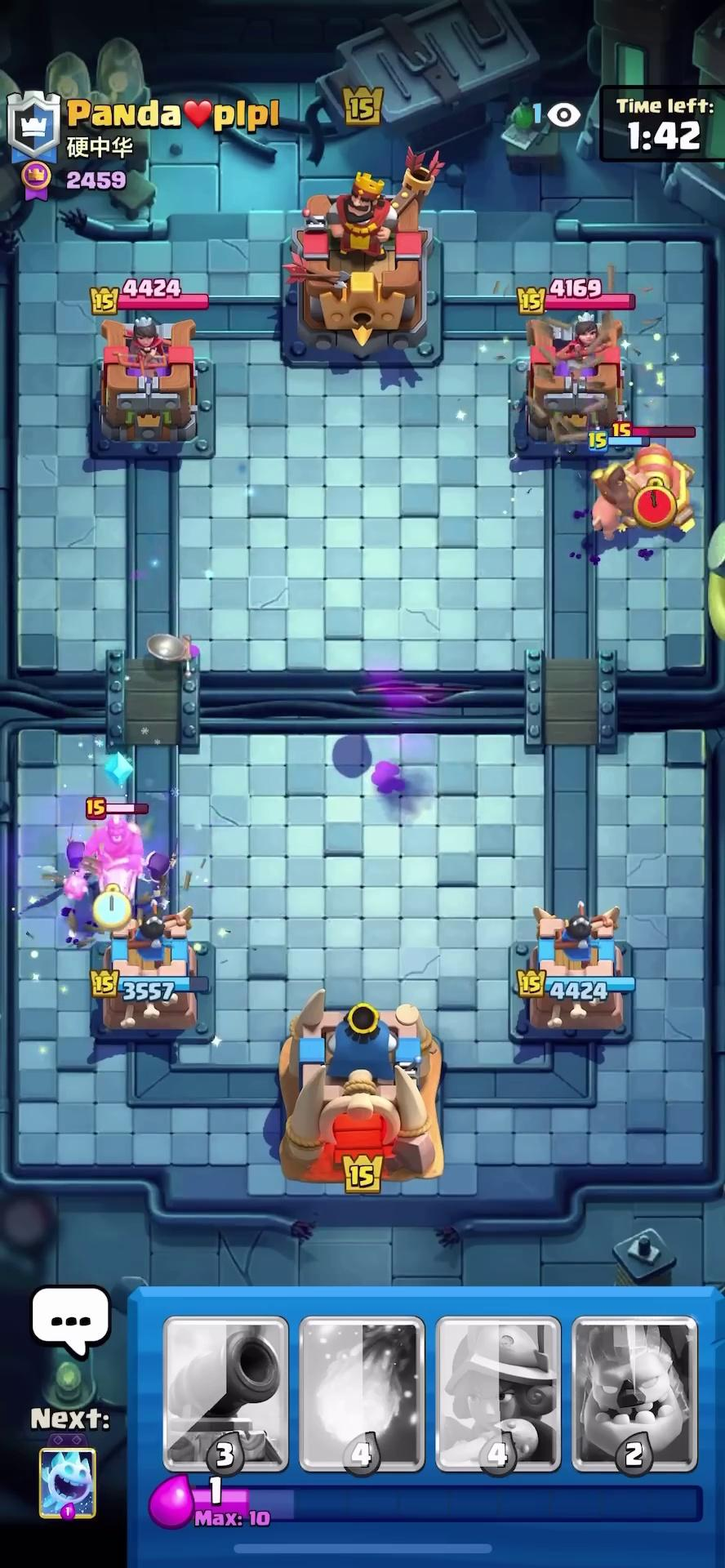evo_skeletons: (57, 833, 92, 888), (141, 841, 180, 886)
hog_rider: (574, 443, 676, 551)
